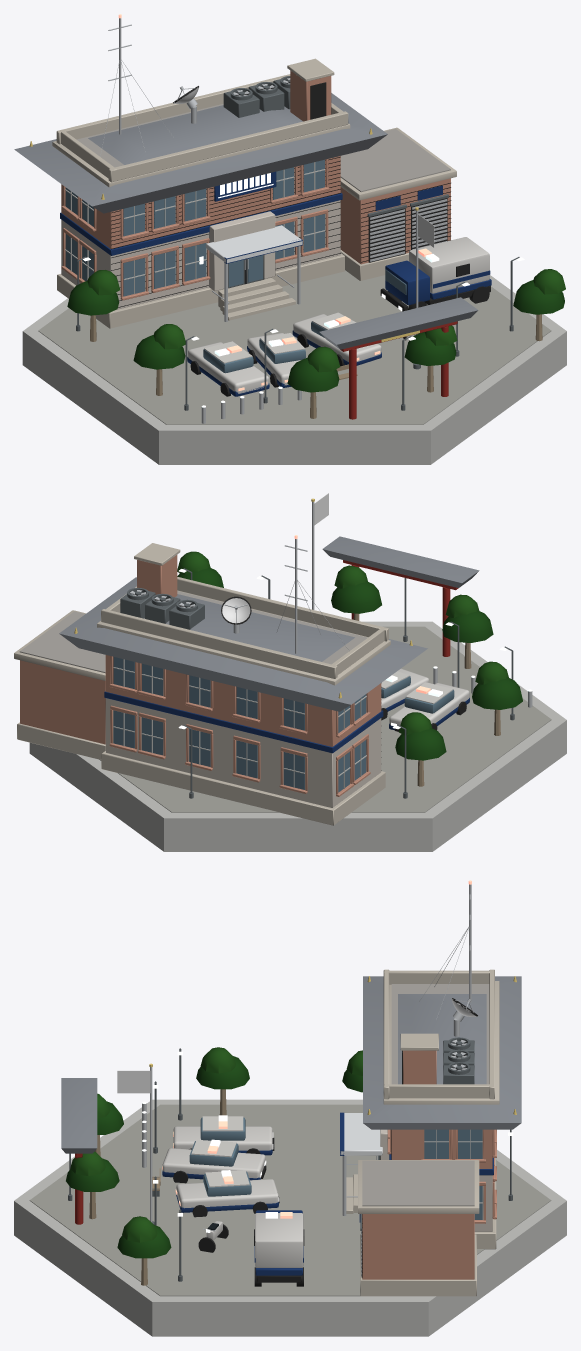
The model's file is policeStation_asia.glb.
3 renders of one model, top to bottom at view 1: azimuth 30°, elevation 25°; view 2: azimuth 150°, elevation 25°; view 3: azimuth 270°, elevation 25°, orthographic. The views are drawn at different scales.
Visible parts, largest first — view 1: pavers, wall_concrete, stone, roof_slate, paint, brick, glass, leaf, dark, gravel, metal, steel_dark (+3 smaller); view 2: stone, wall_concrete, roof_slate, brick, pavers, glass, leaf, paint, steel_dark, gravel, metal, wood; view 3: pavers, wall_concrete, roof_slate, stone, paint, brick, gravel, leaf, glass, steel_dark, metal, dark (+3 smaller).
Boxes of the visible parts, box(x1,y1,x2,y2) form: pavers: box(38, 270, 551, 424); wall_concrete: box(22, 162, 566, 464); stone: box(52, 58, 456, 328); roof_slate: box(14, 93, 478, 349); paint: box(60, 87, 491, 419); brick: box(61, 70, 450, 300); glass: box(65, 159, 406, 373); leaf: box(67, 269, 565, 392); dark: box(111, 80, 490, 396); gravel: box(77, 103, 450, 192); metal: box(100, 18, 447, 423); steel_dark: box(76, 76, 519, 410); stone: box(14, 543, 390, 825); wall_concrete: box(29, 621, 566, 851); roof_slate: box(59, 536, 479, 711); brick: box(20, 555, 381, 796); pavers: box(99, 626, 551, 812); glass: box(113, 657, 454, 792); leaf: box(177, 551, 522, 760); paint: box(104, 560, 469, 753); steel_dark: box(120, 568, 514, 798); gravel: box(19, 591, 367, 673); metal: box(130, 502, 532, 707); wood: box(353, 613, 500, 786); pavers: box(29, 1104, 551, 1296); wall_concrete: box(14, 1099, 566, 1336); roof_slate: box(61, 976, 521, 1153); stone: box(346, 969, 499, 1296); paint: box(75, 998, 493, 1275); brick: box(362, 1050, 496, 1279); gravel: box(362, 984, 489, 1206); leaf: box(66, 1047, 362, 1258); glass: box(189, 1117, 482, 1219); steel_dark: box(68, 1037, 512, 1281); metal: box(142, 884, 473, 1276); dark: box(173, 998, 477, 1286).
Bounding box in the file's own units: 21.3 × 15.3 × 24.6.
